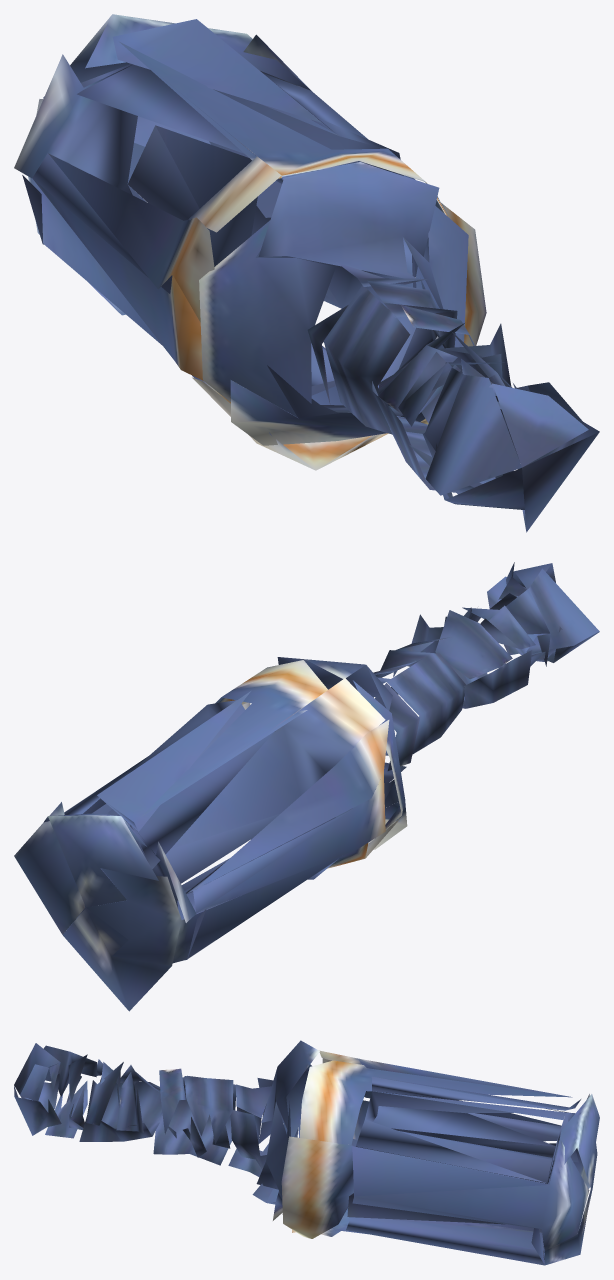
The model's file is s_short_sword_lod1.fbx.
The picture shows the model from 3 angles, top to bottom: view 1: azimuth 30°, elevation 25°; view 2: azimuth 150°, elevation 25°; view 3: azimuth 270°, elevation 25°; orthographic projection. The views are drawn at different scales.
Visible parts, largest first — view 1: tripo_node_d0c0f34c-9136-4f0c-9ebf-f00c94c6aa21; view 2: tripo_node_d0c0f34c-9136-4f0c-9ebf-f00c94c6aa21; view 3: tripo_node_d0c0f34c-9136-4f0c-9ebf-f00c94c6aa21.
Part boxes in pixels (x1,y1,x2,y2): tripo_node_d0c0f34c-9136-4f0c-9ebf-f00c94c6aa21: (14, 14, 599, 532); tripo_node_d0c0f34c-9136-4f0c-9ebf-f00c94c6aa21: (14, 562, 599, 1011); tripo_node_d0c0f34c-9136-4f0c-9ebf-f00c94c6aa21: (14, 1040, 599, 1265).
Bounding box in the file's own units: 0.4231 × 0.3733 × 1.05.
